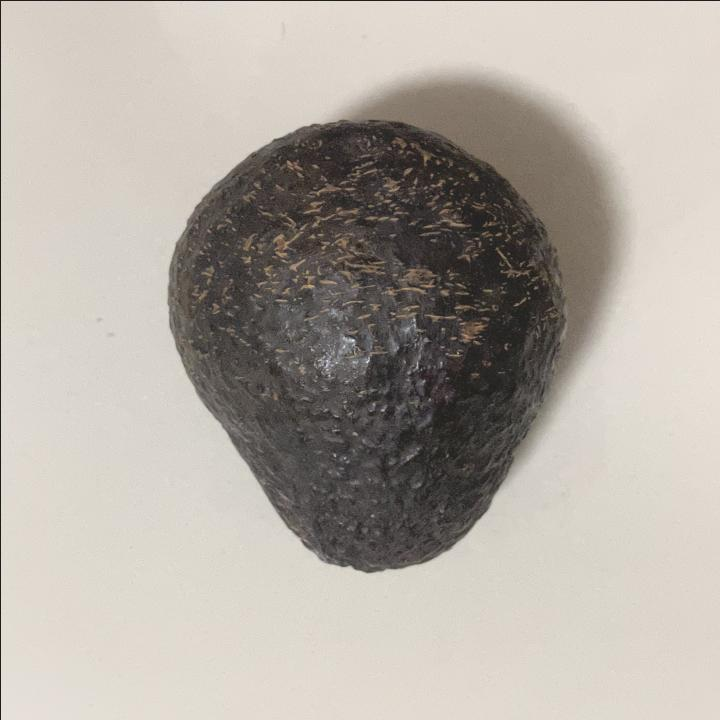Level3: (151, 111, 578, 581)
